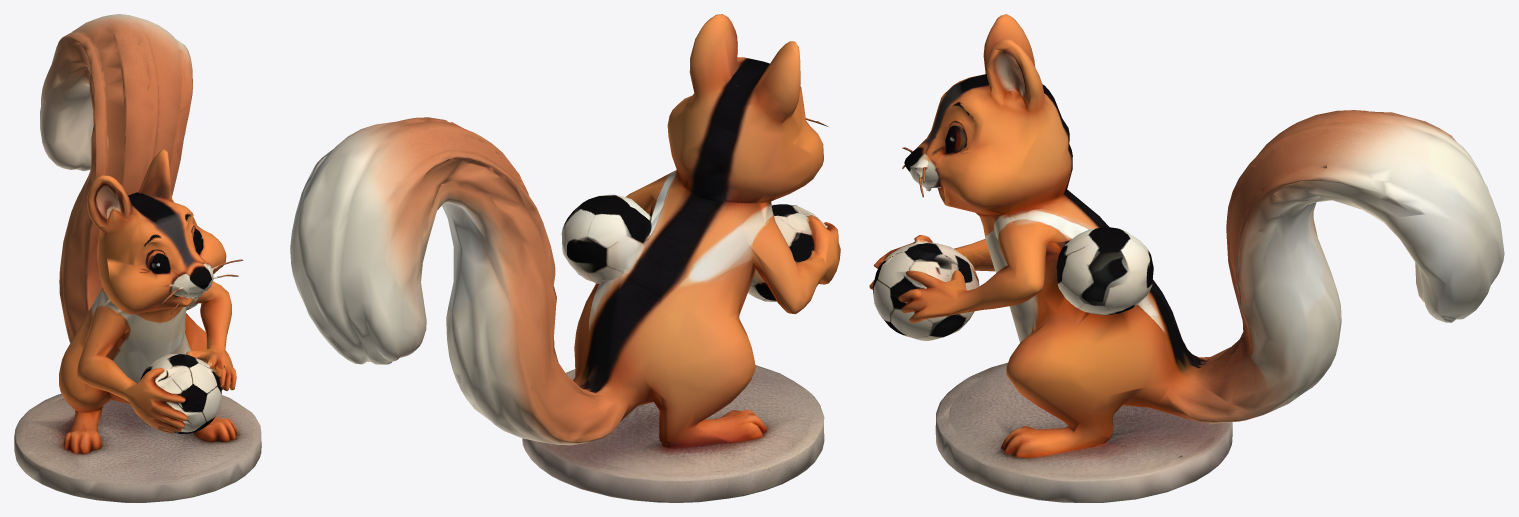
File: mascot_statue.fbx
The picture shows the model from 3 angles, left to right: view 1: azimuth 30°, elevation 25°; view 2: azimuth 150°, elevation 25°; view 3: azimuth 270°, elevation 25°; orthographic projection. The views are drawn at different scales.
Visible parts, largest first — view 1: Mesh_0; view 2: Mesh_0; view 3: Mesh_0.
Boxes of the visible parts, x1,y1,x2,y2 form: Mesh_0: (14, 14, 261, 502); Mesh_0: (290, 14, 840, 502); Mesh_0: (869, 14, 1504, 502).
Bounding box in the file's own units: 115 × 133 × 191.
1 material, 1 textured.
